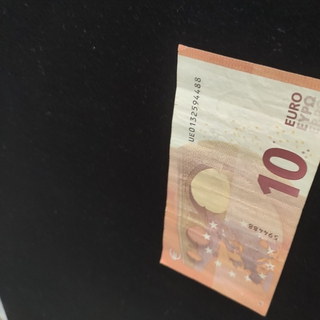10EUROBack: (158, 43, 320, 317)
